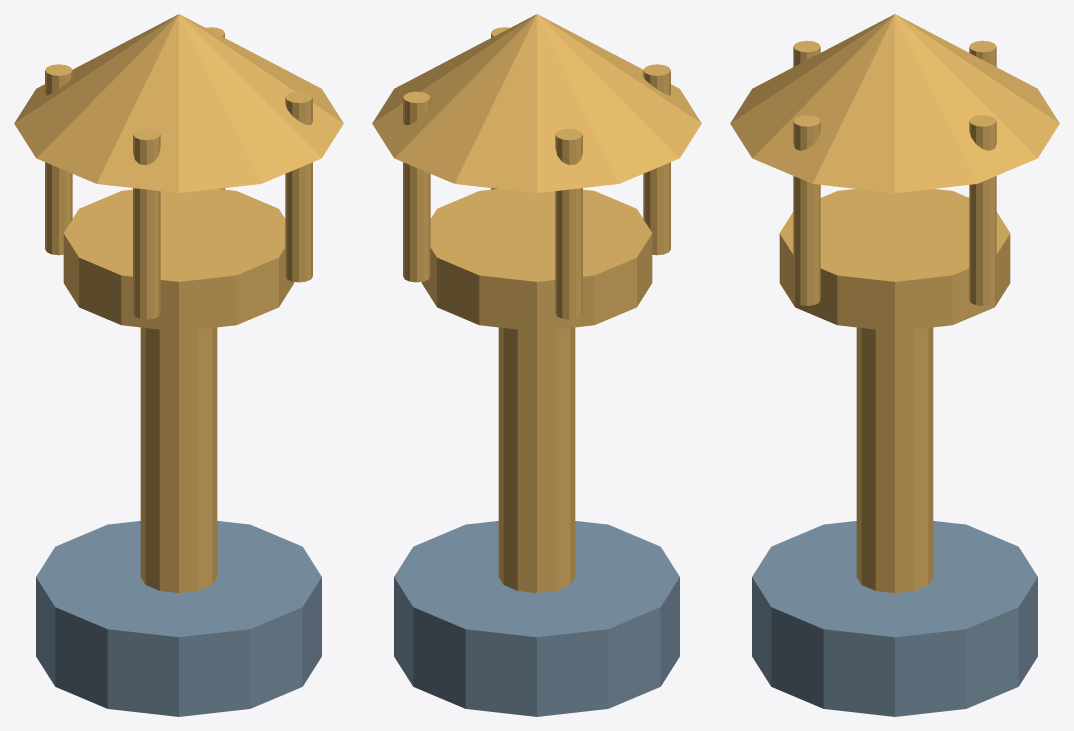
The picture shows the model from 3 angles, left to right: view 1: azimuth 30°, elevation 25°; view 2: azimuth 150°, elevation 25°; view 3: azimuth 270°, elevation 25°; orthographic projection.
Parts seen in each view (by area): view 1: ai_export.011; view 2: ai_export.011; view 3: ai_export.011.
Boxes of the visible parts, x1,y1,x2,y2 form: ai_export.011: (14,14,343,716); ai_export.011: (372,14,701,716); ai_export.011: (730,14,1059,716).
Size of the model in its own units: 0.6 by 1.29 by 0.6.
